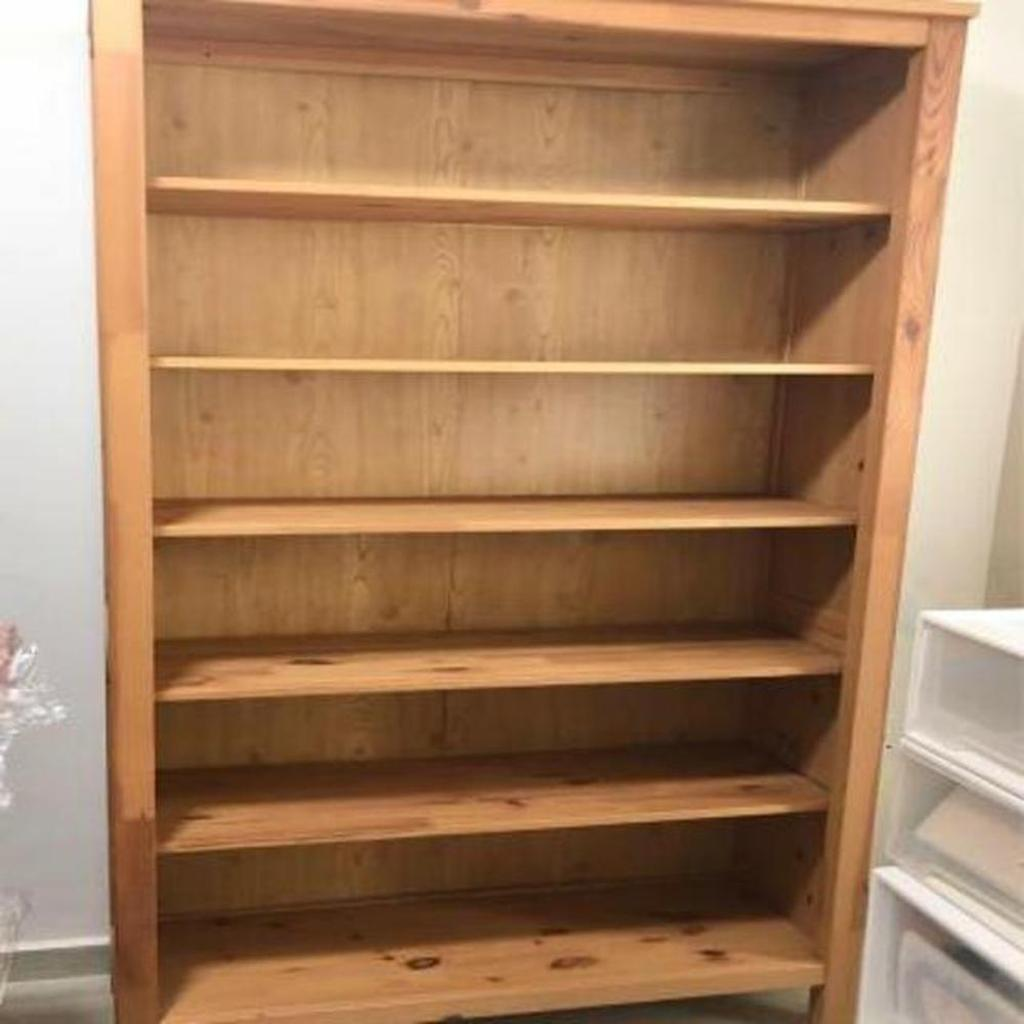lamp: (79, 1, 982, 1023)
